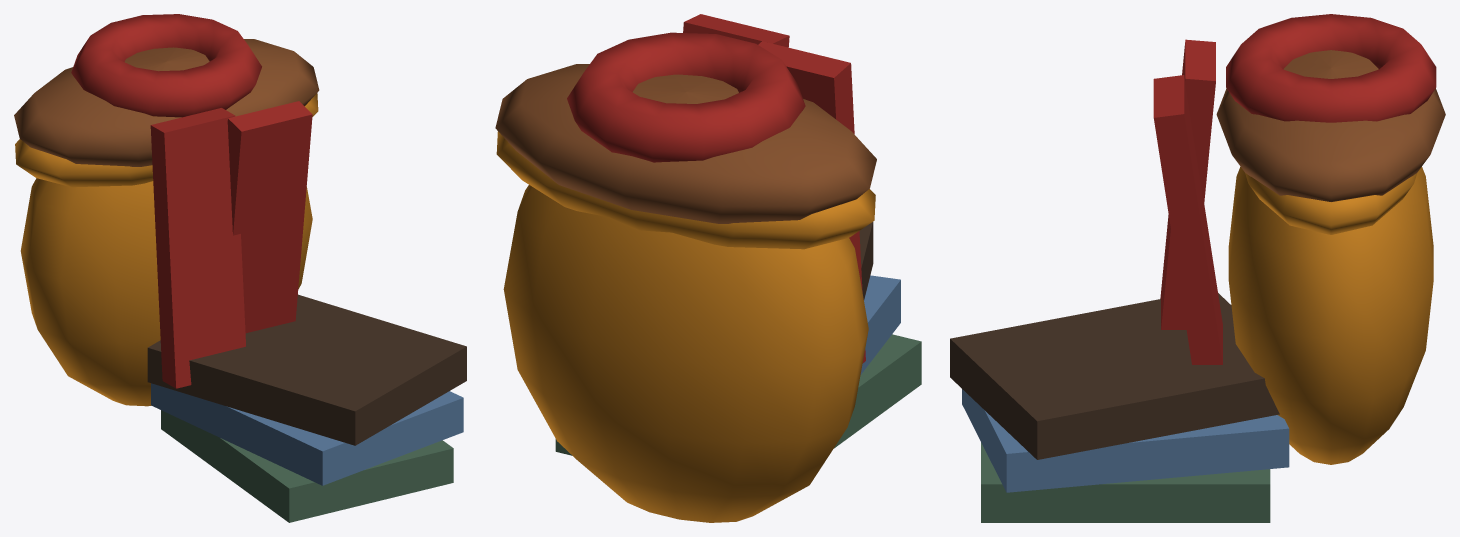
Rendered from chest.obj.
The picture shows the model from 3 angles, left to right: view 1: azimuth 30°, elevation 25°; view 2: azimuth 150°, elevation 25°; view 3: azimuth 270°, elevation 25°; orthographic projection. The views are drawn at different scales.
Parts seen in each view (by area): view 1: chest; view 2: chest; view 3: chest.
Boxes of the visible parts, <box> form: chest: <box>14,14,466,522</box>; chest: <box>495,14,921,522</box>; chest: <box>950,14,1445,522</box>.
Bounding box in the file's own units: 0.3893 × 0.4097 × 0.4631.
